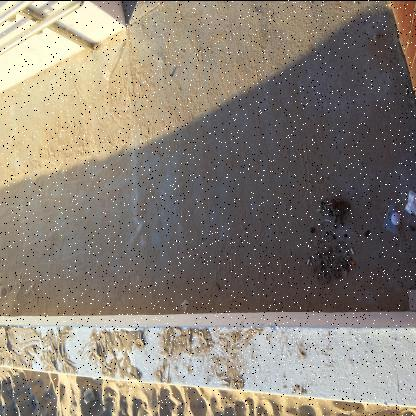paper: (404, 189, 415, 217), (180, 298, 190, 310)
plastic: (102, 69, 110, 81)
